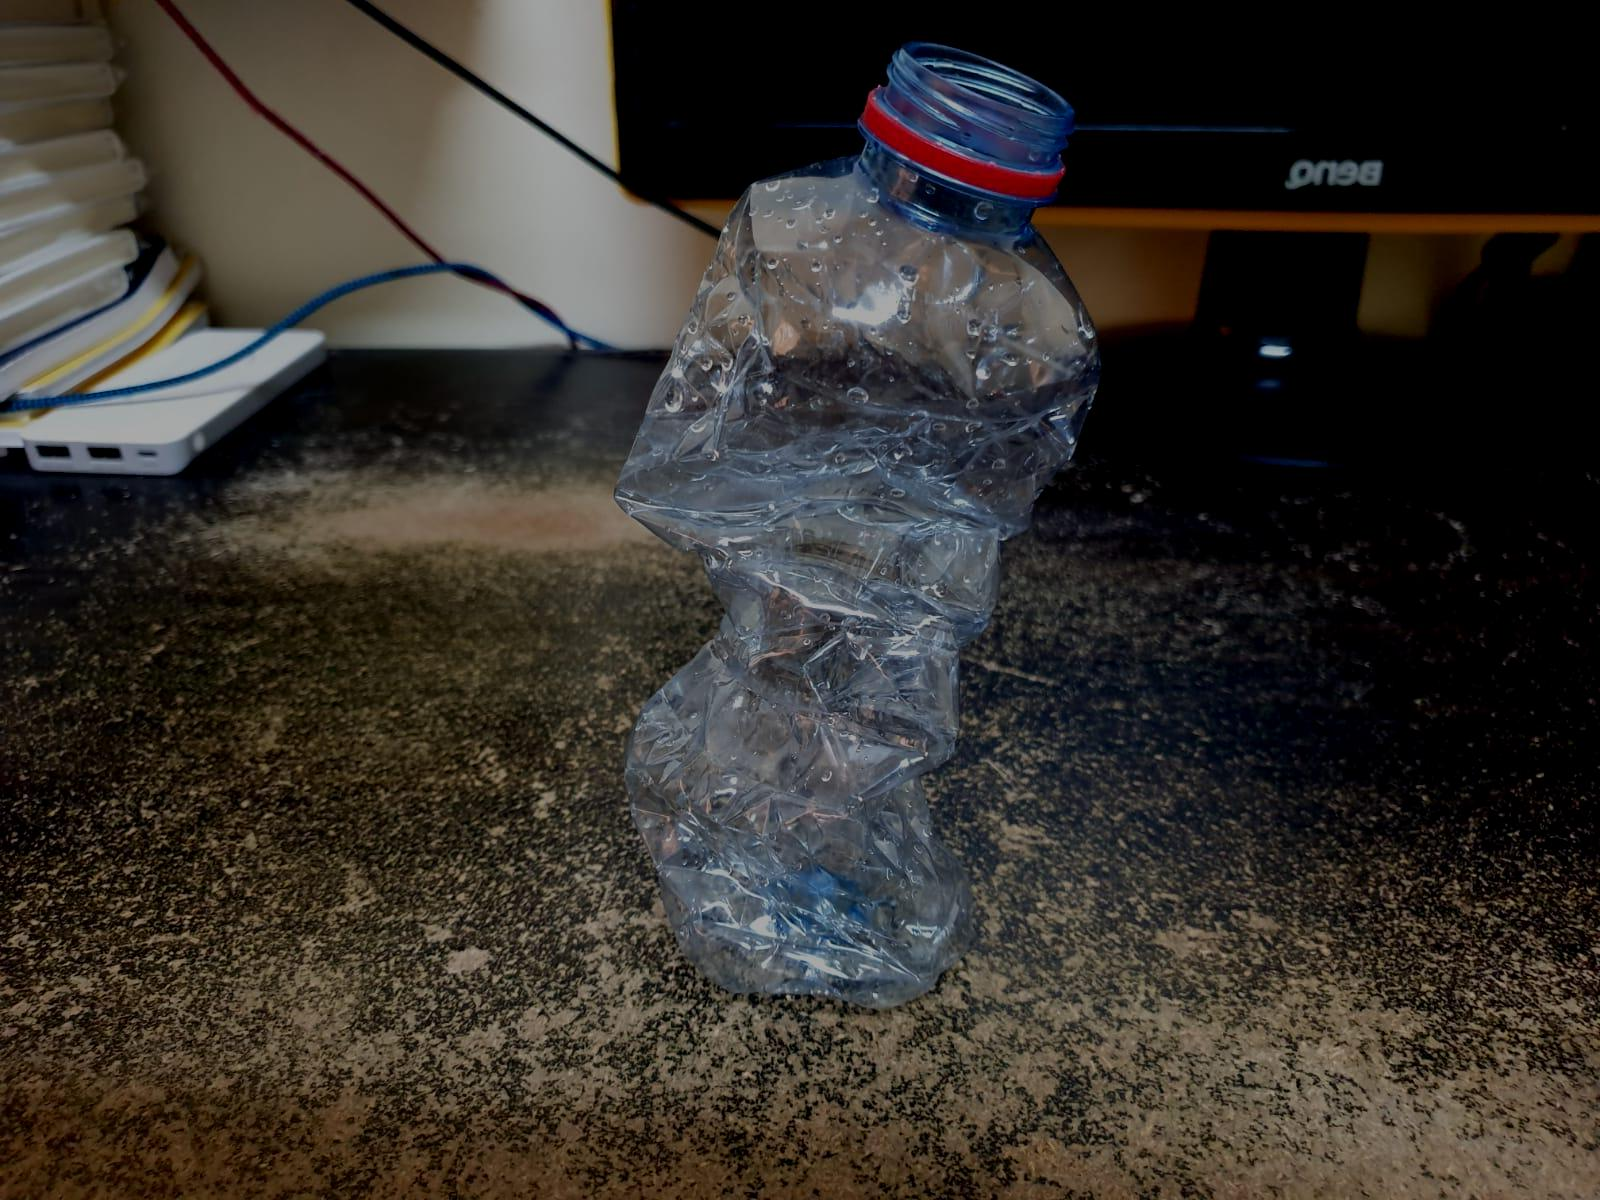bottle: (614, 54, 1095, 1010)
